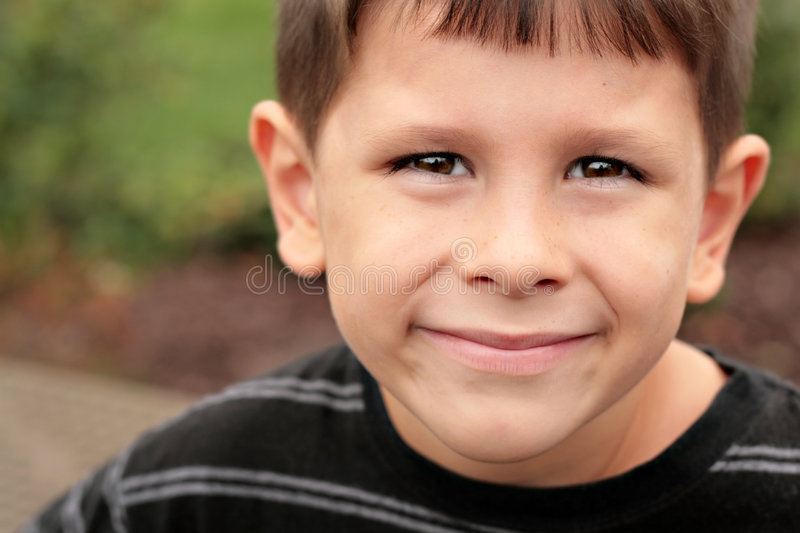happy: (308, 53, 705, 476)
